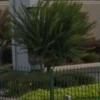Palm tree: (13, 4, 90, 97)
